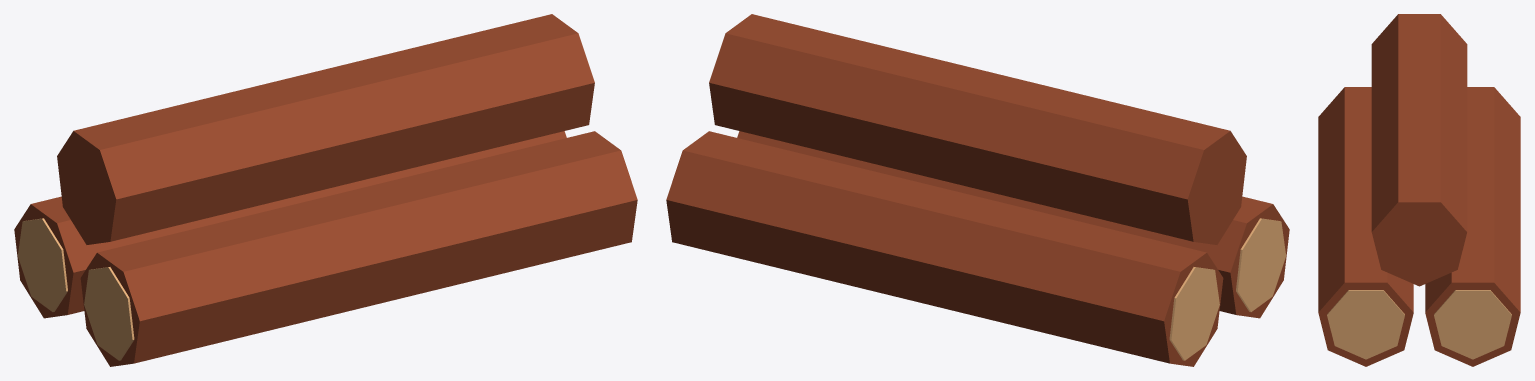
File: drop_logs_maple.glb
The picture shows the model from 3 angles, left to right: view 1: azimuth 30°, elevation 25°; view 2: azimuth 150°, elevation 25°; view 3: azimuth 270°, elevation 25°; orthographic projection. The views are drawn at different scales.
Visible parts, largest first — view 1: drop_logs_maple; view 2: drop_logs_maple; view 3: drop_logs_maple.
Boxes of the visible parts, left/top/right/bottom form: drop_logs_maple: left=14, top=14, right=637, bottom=366; drop_logs_maple: left=666, top=14, right=1289, bottom=366; drop_logs_maple: left=1318, top=14, right=1520, bottom=366.
Size of the model in its own units: 0.524 by 0.1996 by 0.2272.
